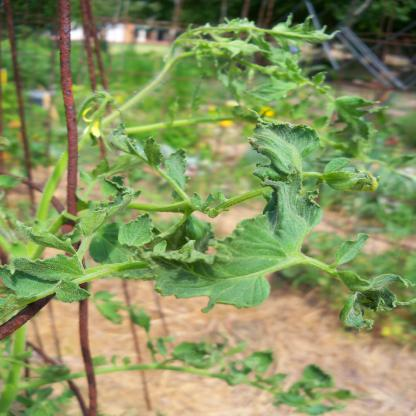Tomato leaf mosaic virus: (154, 214, 305, 307), (245, 107, 324, 259), (334, 261, 416, 339), (6, 253, 89, 307), (115, 212, 157, 247), (165, 143, 190, 192)
